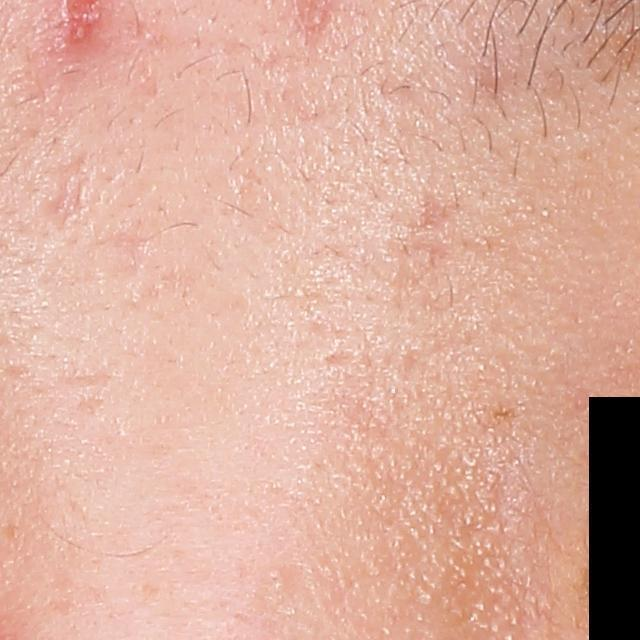atrophic_scar: (43, 152, 91, 229), (109, 227, 151, 289)
